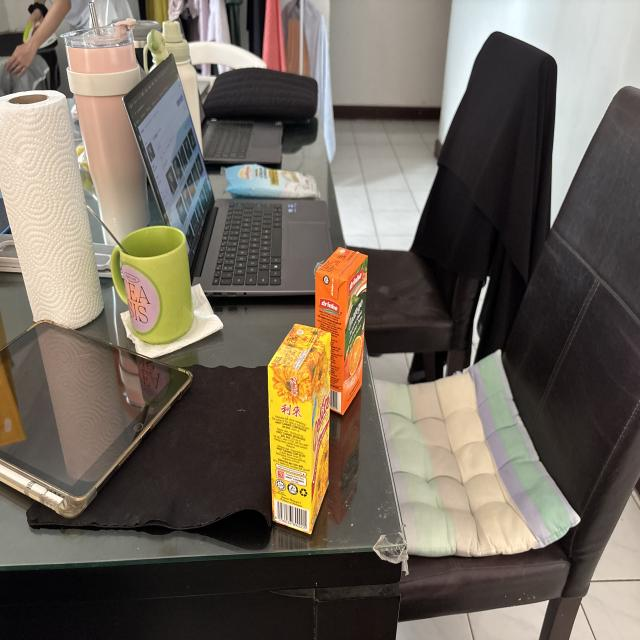drink_carton: (263, 318, 337, 544), (313, 237, 371, 420)
